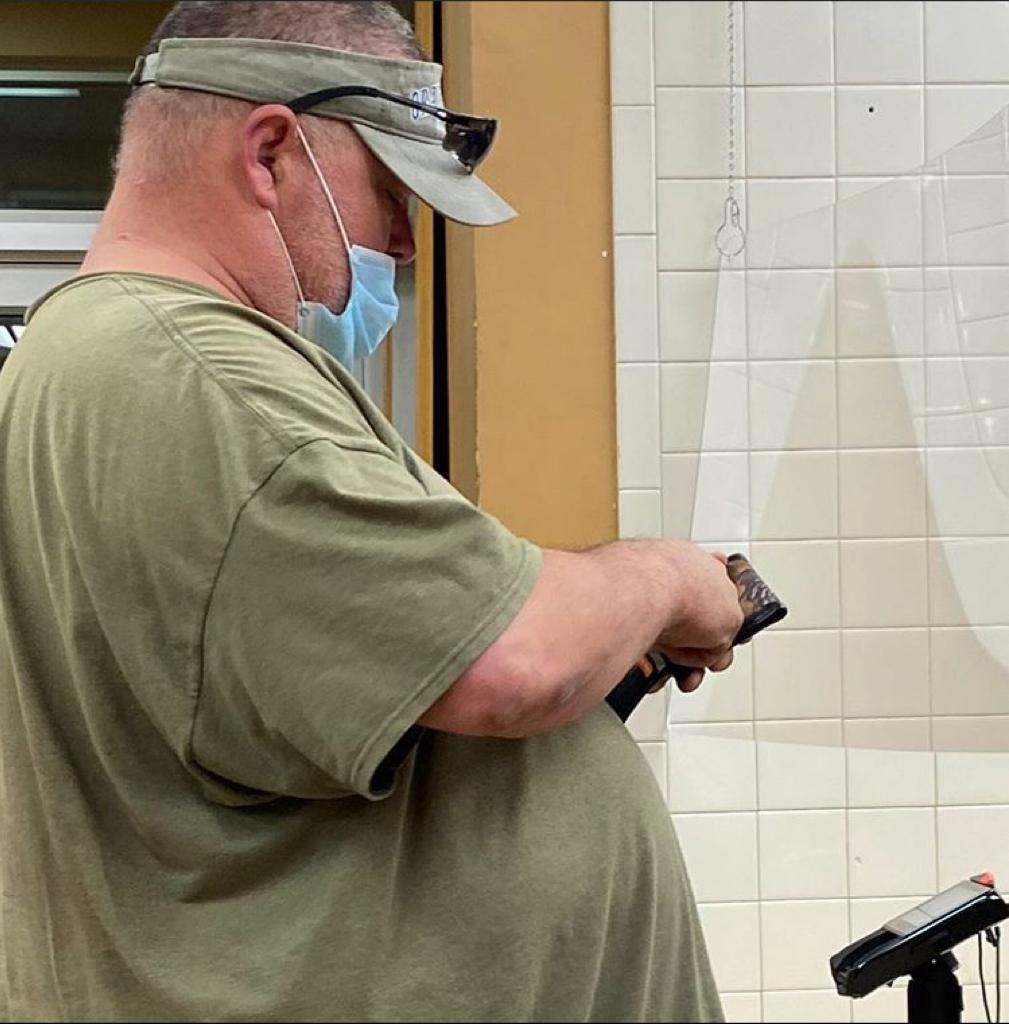nose: (385, 238, 417, 257)
